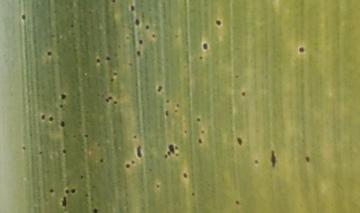tarspot: (269, 149, 277, 167), (135, 143, 144, 158), (235, 134, 244, 148), (167, 143, 175, 154), (201, 40, 208, 52), (61, 195, 68, 207), (134, 16, 141, 28), (59, 92, 68, 101), (297, 45, 305, 54), (214, 18, 222, 27), (155, 84, 163, 93), (19, 12, 27, 21), (59, 119, 67, 128), (104, 95, 113, 103), (47, 115, 54, 124), (163, 109, 170, 118), (110, 70, 119, 77), (40, 112, 46, 122), (304, 155, 311, 163), (70, 187, 77, 195), (124, 162, 131, 170), (108, 75, 115, 83), (81, 133, 90, 139), (233, 73, 240, 80), (150, 32, 157, 39), (137, 38, 144, 45), (112, 99, 119, 106), (195, 116, 202, 123), (253, 158, 259, 166), (240, 90, 246, 98), (234, 199, 240, 207), (182, 171, 188, 179), (197, 137, 203, 145), (129, 4, 135, 12), (104, 55, 112, 61), (144, 23, 150, 31), (135, 49, 141, 57), (199, 128, 205, 136), (173, 152, 181, 158), (163, 153, 169, 161), (166, 149, 171, 158), (165, 97, 170, 106), (48, 187, 54, 194), (64, 188, 70, 195), (46, 50, 53, 56), (58, 102, 64, 109), (95, 57, 101, 64), (130, 159, 136, 166), (61, 148, 67, 155), (97, 157, 104, 163), (20, 145, 27, 151), (68, 22, 75, 28), (127, 61, 133, 68), (132, 133, 137, 141), (190, 191, 196, 197), (154, 183, 160, 189), (92, 207, 98, 213), (79, 174, 84, 181), (183, 128, 188, 135), (83, 191, 88, 198), (38, 150, 43, 156), (173, 108, 179, 113), (198, 55, 203, 60), (175, 102, 179, 108), (110, 1, 117, 4)
